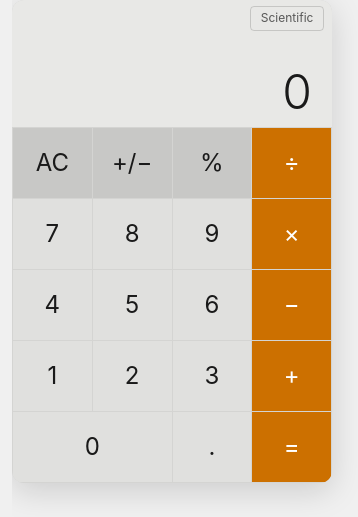
Calculator › digit input via clicks › allows decimal input
Click the button "3": click(212, 376) x1=172 y1=341 x2=251 y2=411
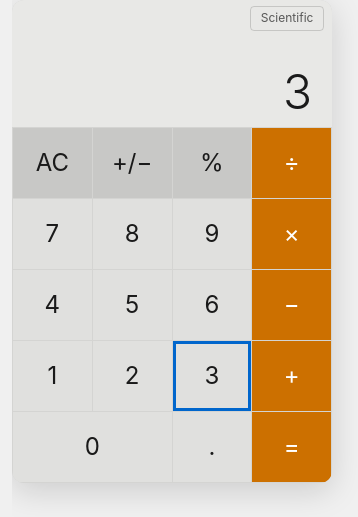
Click the button named "Decimal point": click(212, 447) x1=172 y1=412 x2=251 y2=482
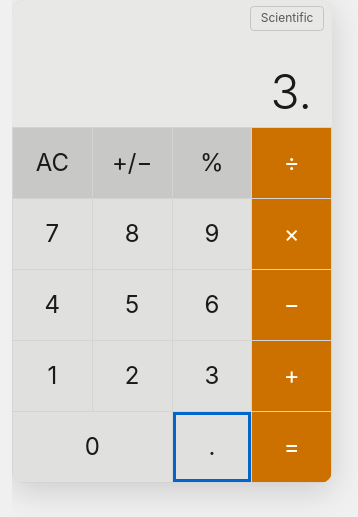
Click the button "1": click(52, 376) x1=13 y1=341 x2=92 y2=411
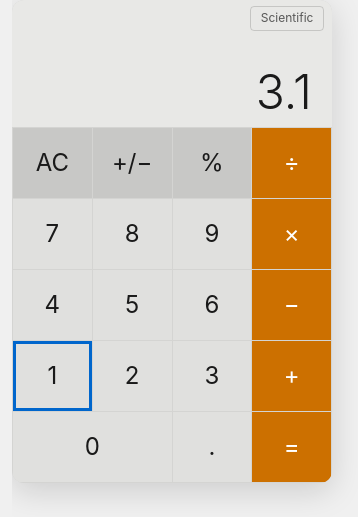
Click the button "4": click(52, 305) x1=13 y1=270 x2=92 y2=340
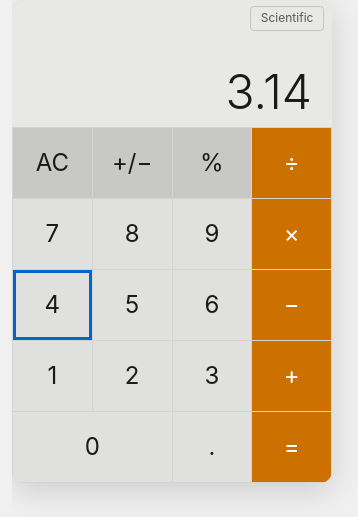
Now the text with test id "display" reads "3.14", box x1=226 y1=62 x2=312 y2=121
